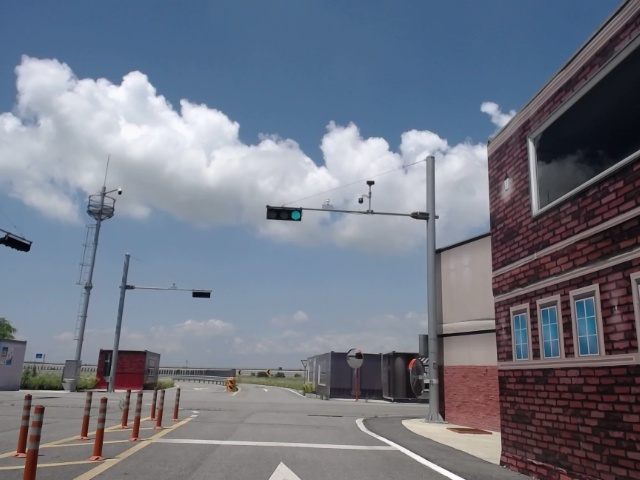green_3: (266, 206, 306, 222)
